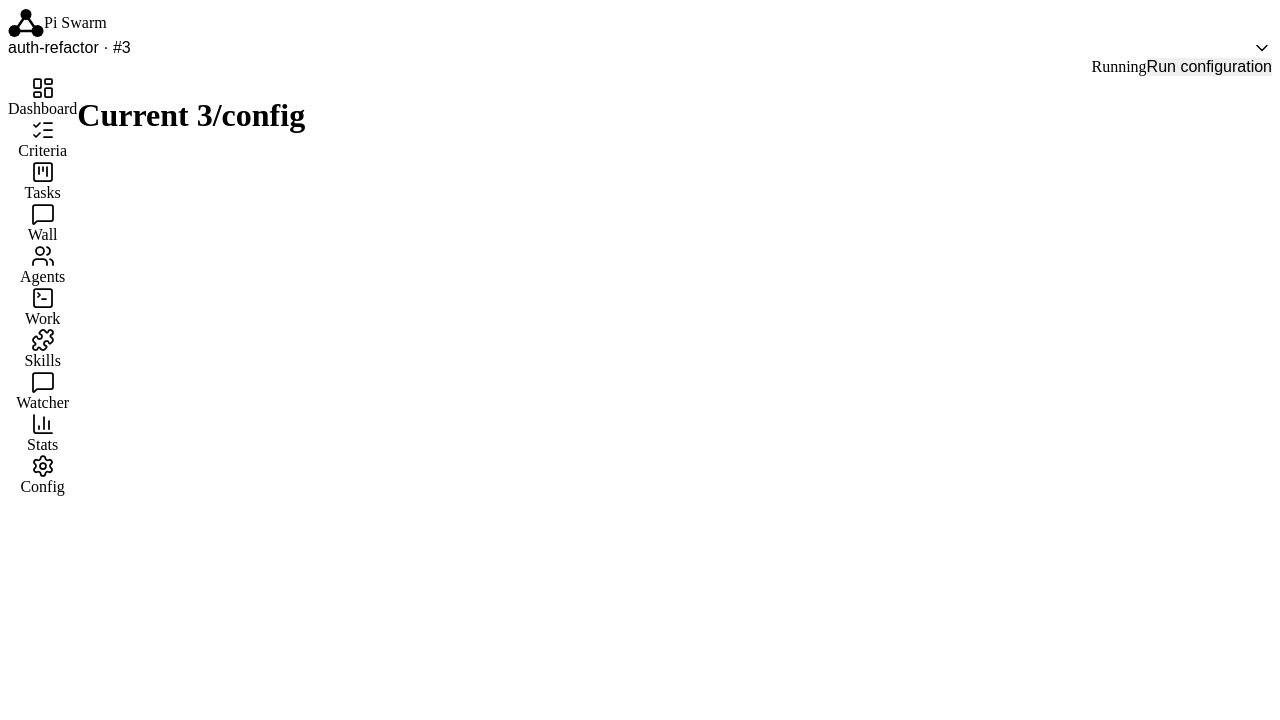
keeps selectors live across scoped pages and selection changes with one shared index feed
Click the button "auth-refactor · #3": x=69, y=48 top-left (8, 38), bottom-right (1272, 58)
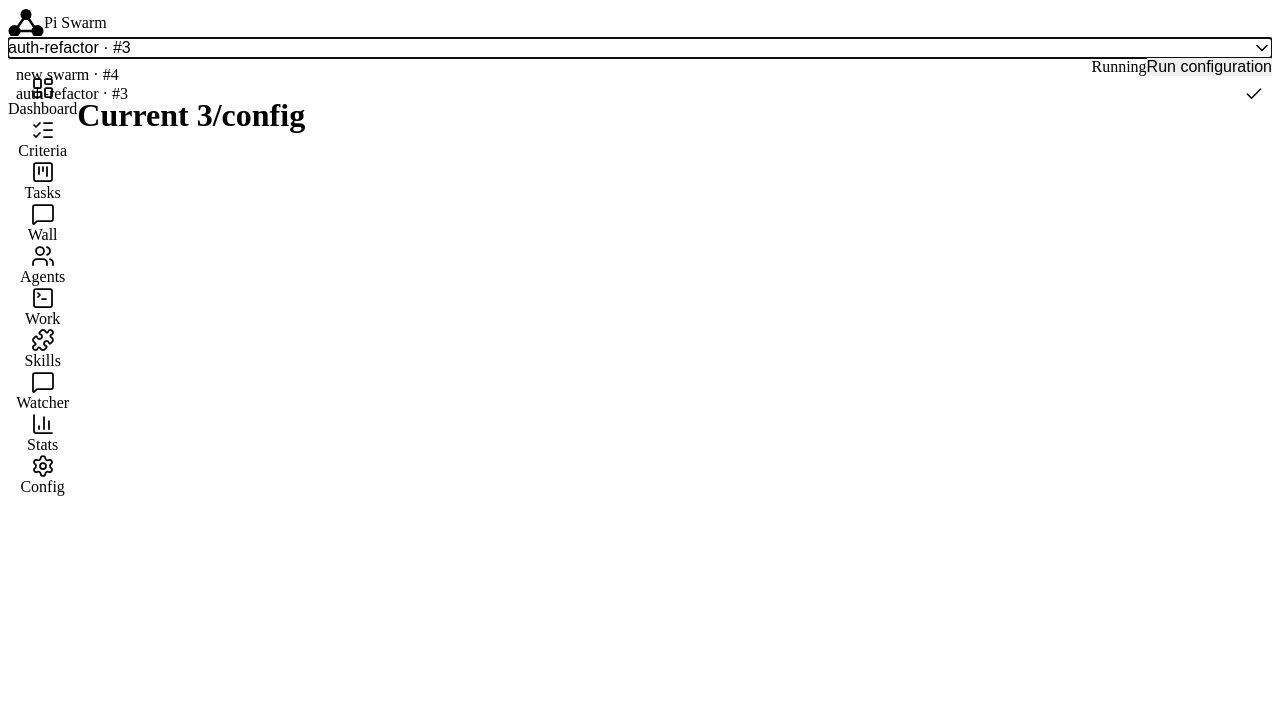
Expected: the heading "Current 3/config" is shown, top-left (77, 97), bottom-right (305, 133)
Click the option "new swarm · #4": x=67, y=74 top-left (16, 66), bottom-right (119, 83)
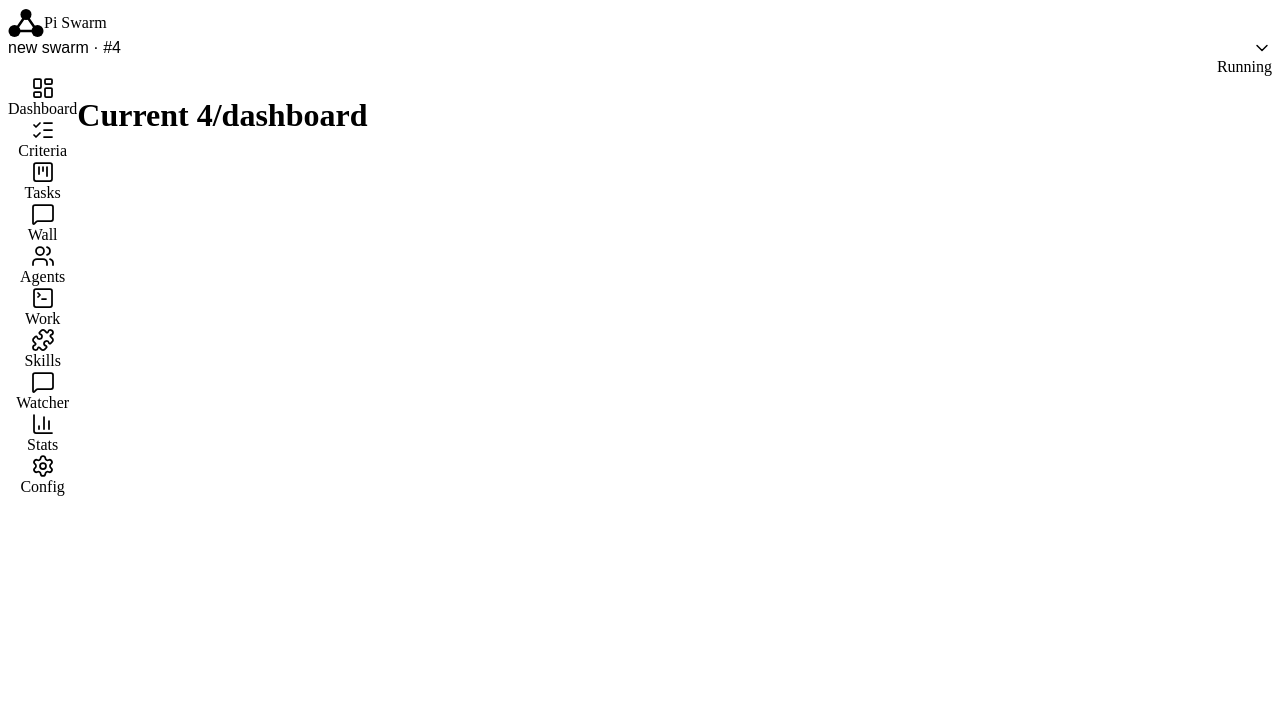
Expected: the heading "Current 4/dashboard" is shown, top-left (77, 97), bottom-right (367, 133)
Click the button "new swarm · #4": x=64, y=48 top-left (8, 38), bottom-right (1272, 58)
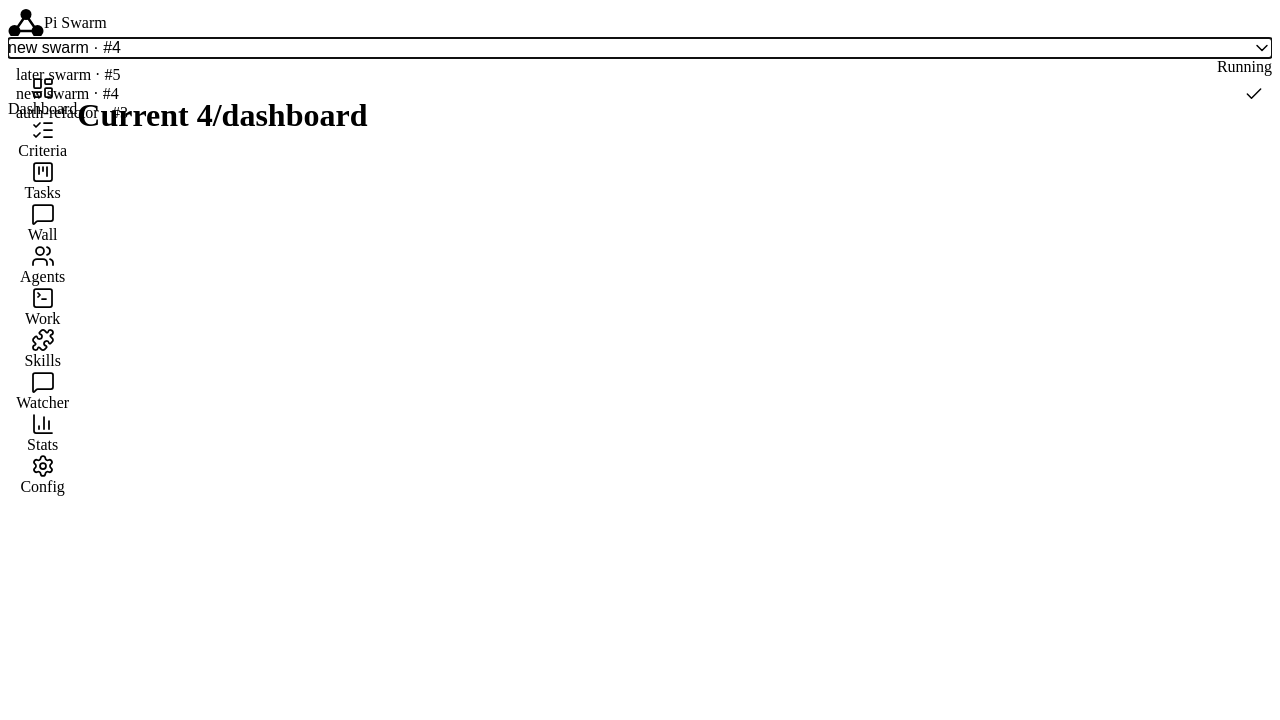
Expected: the option "later swarm · #5" is shown, top-left (16, 66), bottom-right (120, 83)
